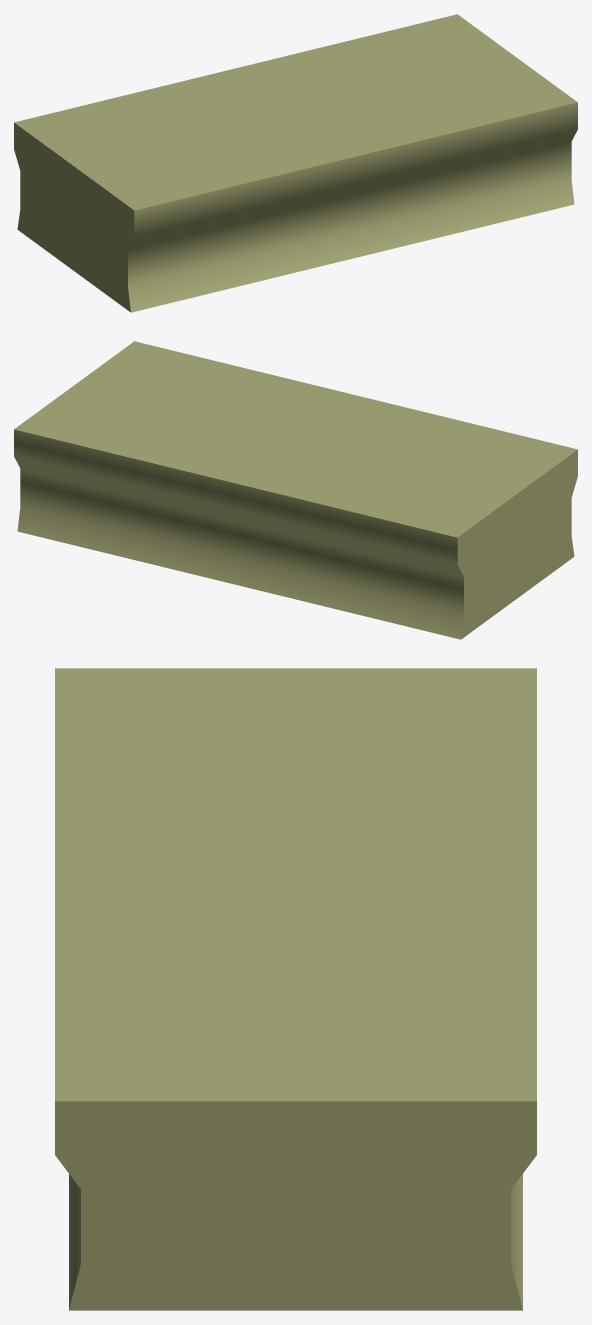
File: gngtie2.FBX
The picture shows the model from 3 angles, top to bottom: view 1: azimuth 30°, elevation 25°; view 2: azimuth 150°, elevation 25°; view 3: azimuth 270°, elevation 25°; orthographic projection. The views are drawn at different scales.
Visible parts, largest first — view 1: Box002; view 2: Box002; view 3: Box002.
Boxes of the visible parts, x1,y1,x2,y2 form: Box002: [14, 14, 577, 312]; Box002: [14, 341, 577, 639]; Box002: [55, 668, 536, 1310].
Size of the model in its own units: 13.95 by 3.15 by 6.56.
Materials: 1 (1 with a texture image).
